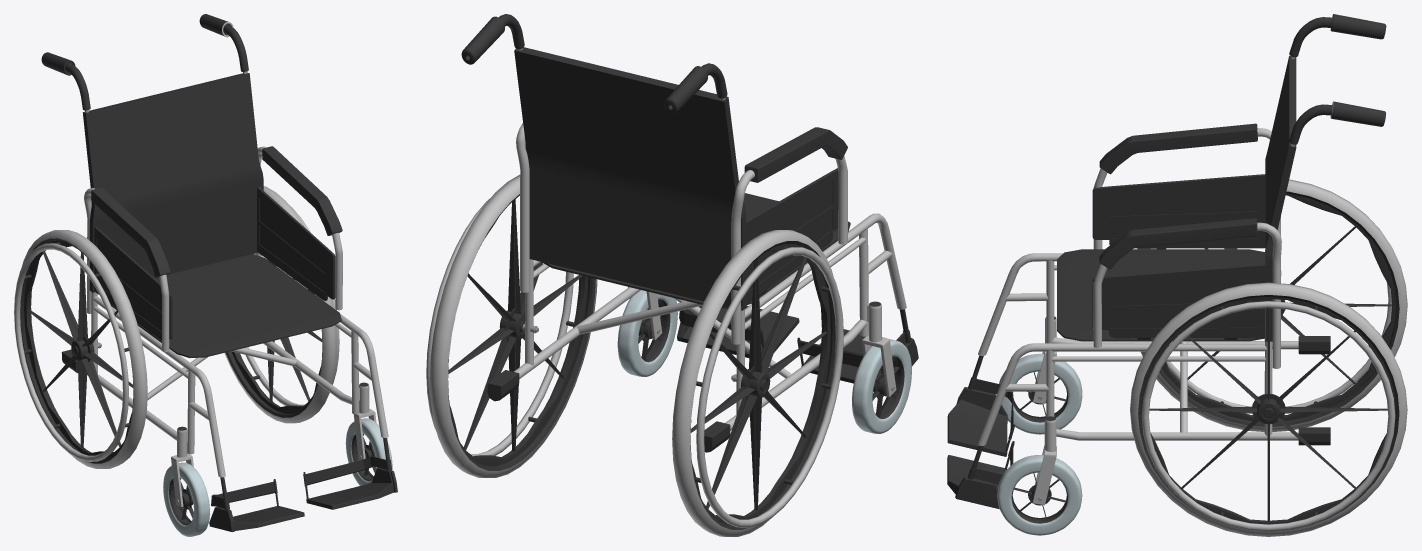
Rendered from wheelchair.glb.
The picture shows the model from 3 angles, left to right: view 1: azimuth 30°, elevation 25°; view 2: azimuth 150°, elevation 25°; view 3: azimuth 270°, elevation 25°; orthographic projection. The views are drawn at different scales.
Parts seen in each view (by area): view 1: wheelchair_uv_combined_mesh_result, wheelchair_uv_combined_mesh_result_wheelchair_big_wheel_left, wheelchair_uv_combined_mesh_result_wheelchair_attachments_le, wheelchair_uv_combined_mesh_result_wheelchair_attachments_ri, wheelchair_uv_combined_mesh_result_wheelchair_big_wheel_righ, wheelchair_uv_combined_mesh_result_wheelchair_small_wheels_b; view 2: wheelchair_uv_combined_mesh_result, wheelchair_uv_combined_mesh_result_wheelchair_big_wheel_left, wheelchair_uv_combined_mesh_result_wheelchair_big_wheel_righ, wheelchair_uv_combined_mesh_result_wheelchair_attachments_le, wheelchair_uv_combined_mesh_result_wheelchair_attachments_ri, wheelchair_uv_combined_mesh_result_wheelchair_small_wheels_b; view 3: wheelchair_uv_combined_mesh_result, wheelchair_uv_combined_mesh_result_wheelchair_big_wheel_righ, wheelchair_uv_combined_mesh_result_wheelchair_attachments_ri, wheelchair_uv_combined_mesh_result_wheelchair_attachments_le, wheelchair_uv_combined_mesh_result_wheelchair_big_wheel_left, wheelchair_uv_combined_mesh_result_wheelchair_small_wheels_b.
Boxes of the visible parts, bbox=[...] form: wheelchair_uv_combined_mesh_result: bbox=[82, 72, 341, 357]; wheelchair_uv_combined_mesh_result_wheelchair_big_wheel_left: bbox=[14, 230, 147, 468]; wheelchair_uv_combined_mesh_result_wheelchair_attachments_le: bbox=[41, 52, 304, 531]; wheelchair_uv_combined_mesh_result_wheelchair_attachments_ri: bbox=[147, 14, 397, 509]; wheelchair_uv_combined_mesh_result_wheelchair_big_wheel_righ: bbox=[224, 186, 339, 423]; wheelchair_uv_combined_mesh_result_wheelchair_small_wheels_b: bbox=[163, 418, 392, 536]; wheelchair_uv_combined_mesh_result: bbox=[514, 47, 850, 310]; wheelchair_uv_combined_mesh_result_wheelchair_big_wheel_left: bbox=[672, 230, 843, 536]; wheelchair_uv_combined_mesh_result_wheelchair_big_wheel_righ: bbox=[426, 174, 597, 477]; wheelchair_uv_combined_mesh_result_wheelchair_attachments_le: bbox=[664, 63, 918, 452]; wheelchair_uv_combined_mesh_result_wheelchair_attachments_ri: bbox=[461, 14, 799, 401]; wheelchair_uv_combined_mesh_result_wheelchair_small_wheels_b: bbox=[617, 290, 911, 433]; wheelchair_uv_combined_mesh_result: bbox=[1057, 56, 1296, 341]; wheelchair_uv_combined_mesh_result_wheelchair_big_wheel_righ: bbox=[1130, 282, 1407, 536]; wheelchair_uv_combined_mesh_result_wheelchair_attachments_ri: bbox=[947, 101, 1385, 509]; wheelchair_uv_combined_mesh_result_wheelchair_attachments_le: bbox=[947, 14, 1386, 456]; wheelchair_uv_combined_mesh_result_wheelchair_big_wheel_left: bbox=[1140, 179, 1407, 431]; wheelchair_uv_combined_mesh_result_wheelchair_small_wheels_b: bbox=[997, 353, 1082, 535].
Bounding box in the file's own units: 12.04 × 20.06 × 19.69.
Materials: 6 (6 with a texture image).
